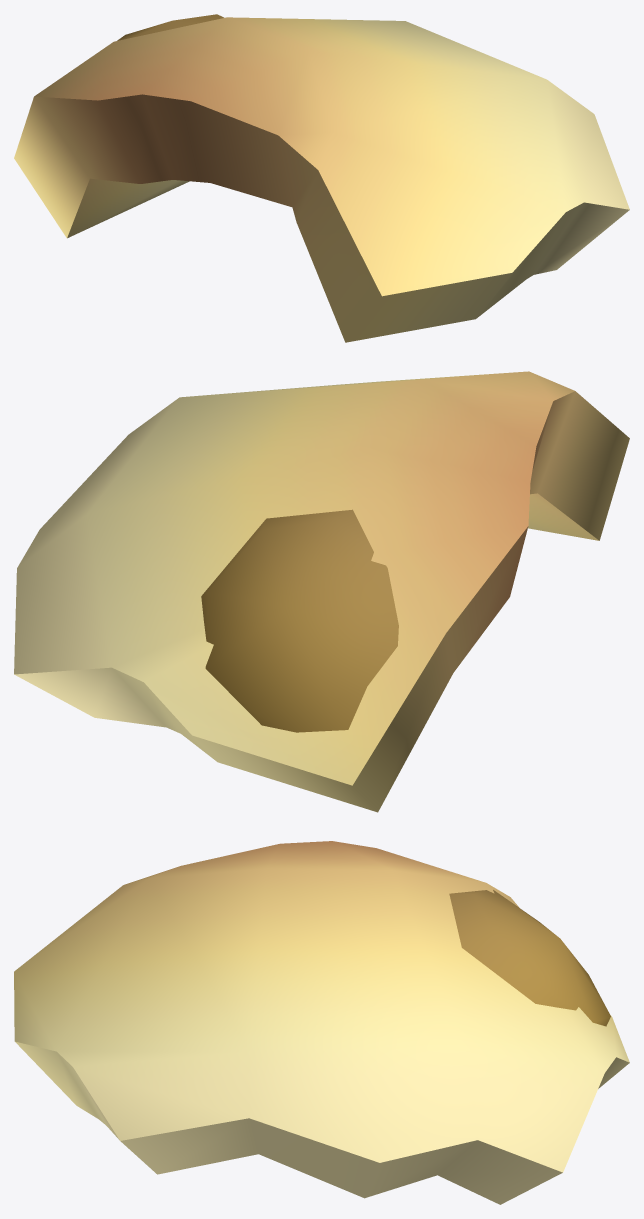
File: Egg_Particle_Beige_001.fbx
The picture shows the model from 3 angles, top to bottom: view 1: azimuth 30°, elevation 25°; view 2: azimuth 150°, elevation 25°; view 3: azimuth 270°, elevation 25°; orthographic projection. The views are drawn at different scales.
Parts seen in each view (by area): view 1: Egg_Particle_Beige_001; view 2: Egg_Particle_Beige_001; view 3: Egg_Particle_Beige_001.
Part boxes in pixels (bbox=[...]): Egg_Particle_Beige_001: bbox=[14, 14, 629, 342]; Egg_Particle_Beige_001: bbox=[14, 371, 629, 812]; Egg_Particle_Beige_001: bbox=[14, 841, 629, 1204].
Size of the model in its own units: 1.37 by 0.7852 by 1.71.
